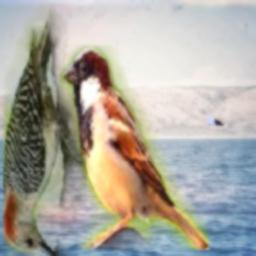Crow: (208, 59, 234, 126)
Sparrow: (61, 46, 210, 250)
Woodpecker: (3, 3, 87, 256)
